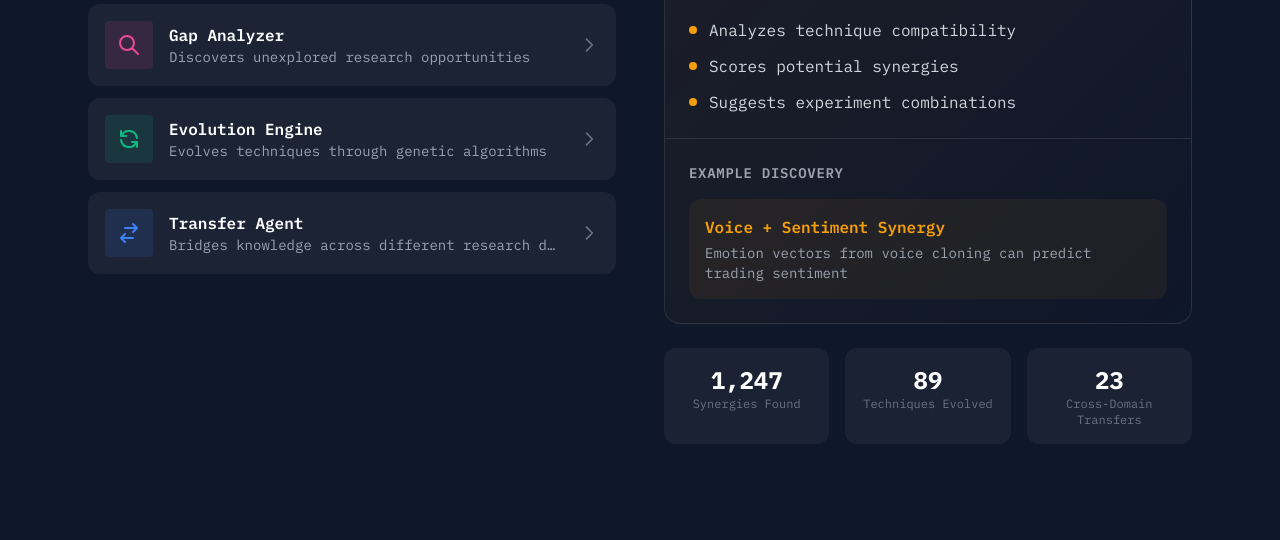
MetaAgentFeature › Agent Selection › should switch to Transfer Agent when clicked
(page scrolled)
Click the button "Transfer Agent" at (352,233), box [88,192,616,274]
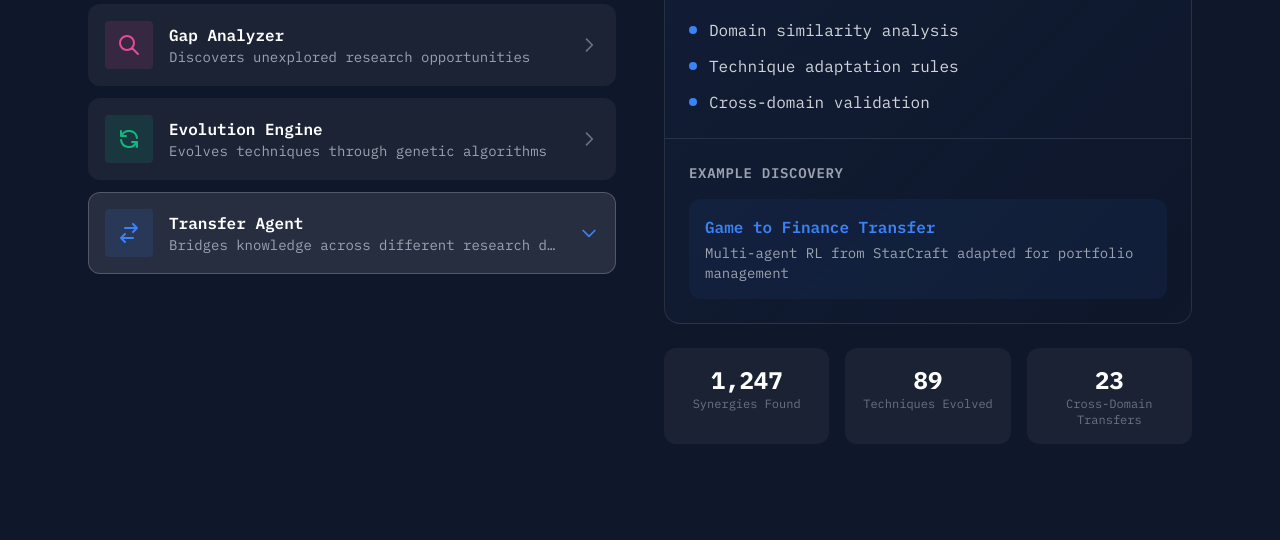
Expected: the text "Domain similarity analysis" is shown, [709,18,959,42]
